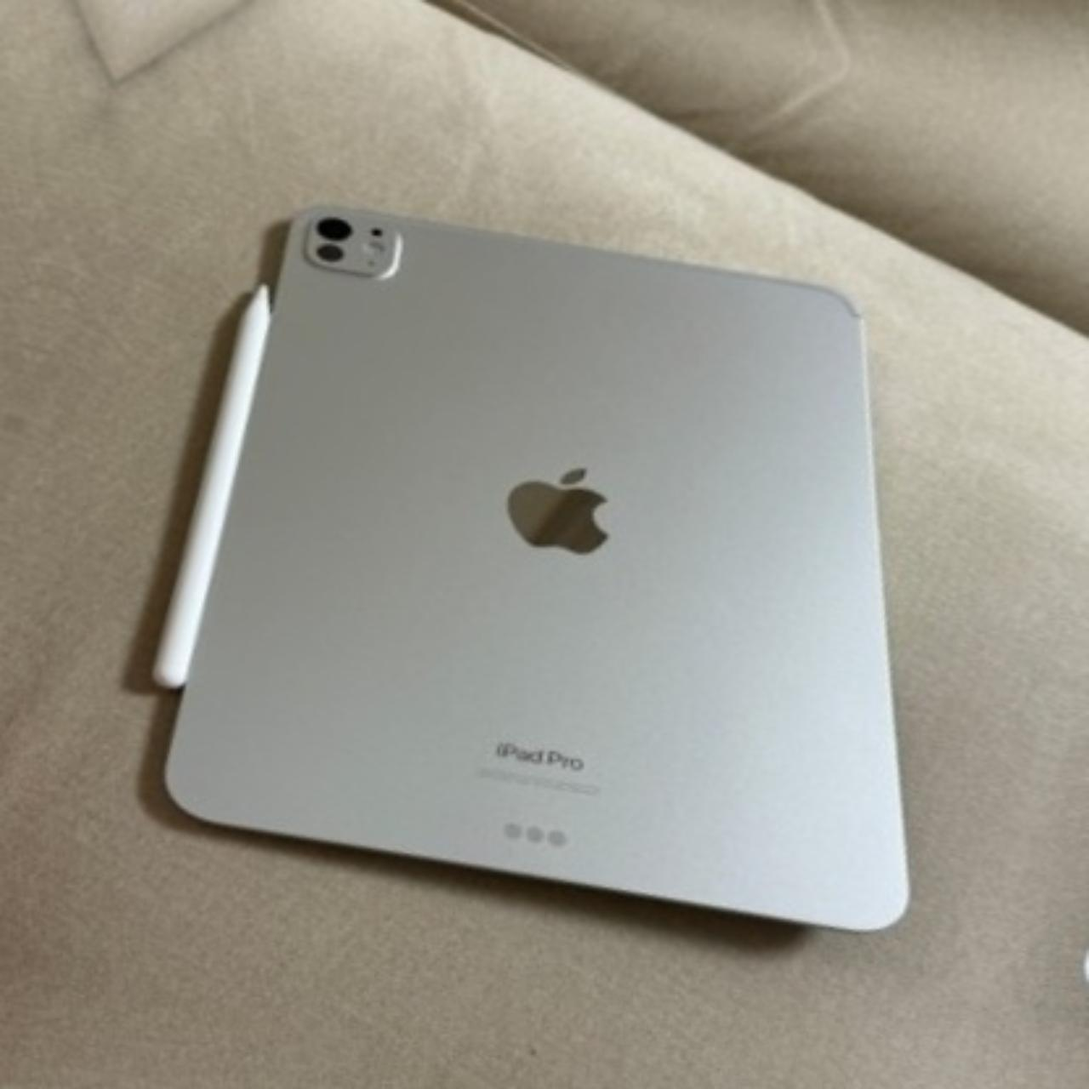Tablet_PC: (68, 113, 1089, 1018)
